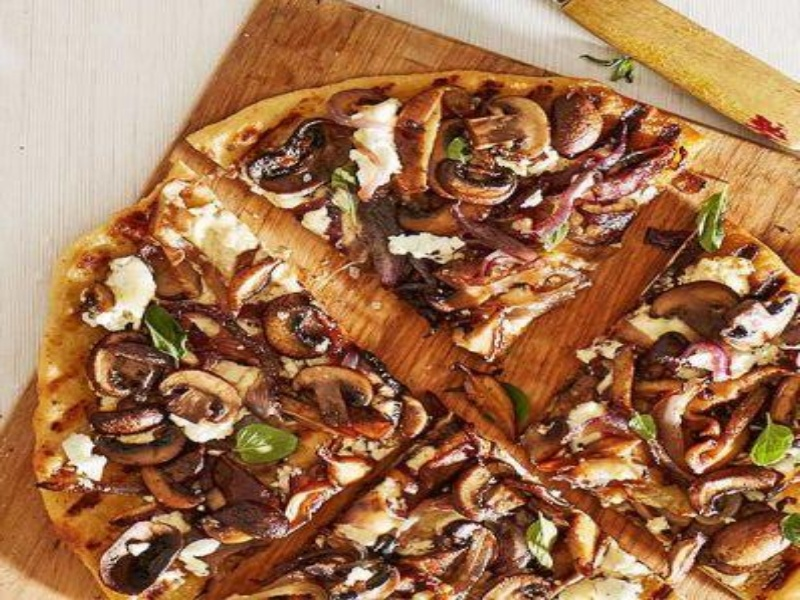champignon: (238, 116, 355, 199), (460, 92, 554, 169), (78, 327, 167, 403), (156, 370, 254, 435), (261, 285, 336, 368), (288, 366, 374, 425), (428, 156, 523, 209), (717, 292, 798, 353)
